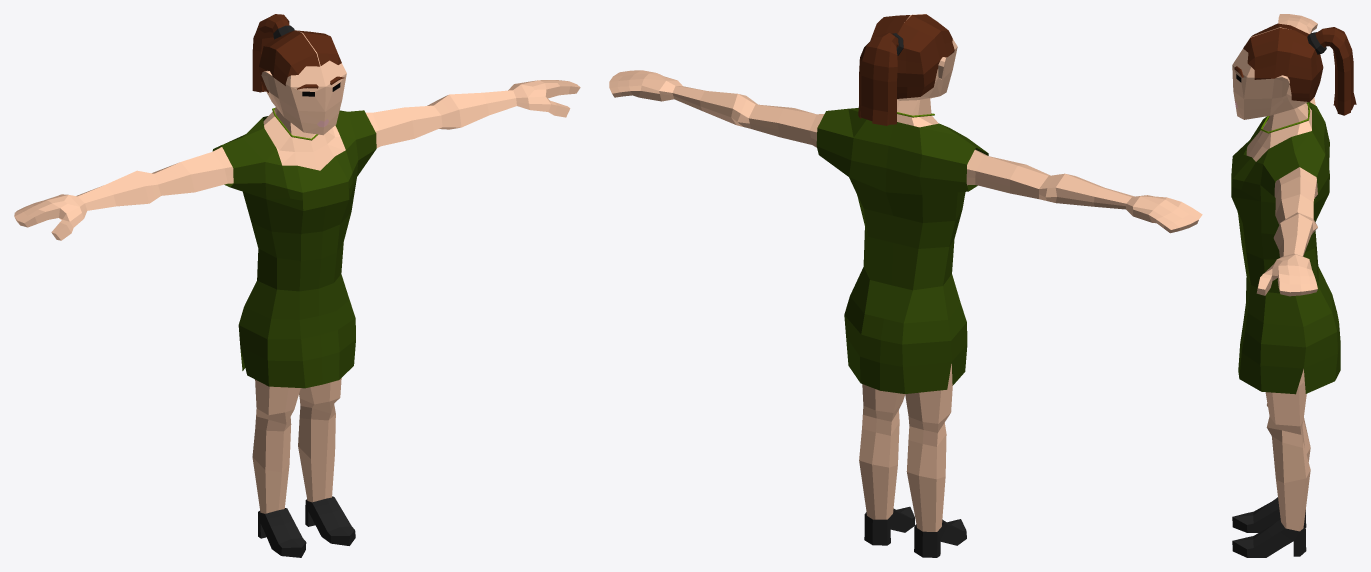
Rendered from NPC_W_Verde_Escenario2_Coleta.fbx.
3 renders of one model, left to right at view 1: azimuth 30°, elevation 25°; view 2: azimuth 150°, elevation 25°; view 3: azimuth 270°, elevation 25°, orthographic. The views are drawn at different scales.
Parts seen in each view (by area): view 1: Vestido; view 2: Vestido; view 3: Vestido.
Part boxes in pixels (x1,y1,x2,y2): Vestido: [14, 14, 580, 557]; Vestido: [609, 14, 1202, 557]; Vestido: [1231, 14, 1356, 557].
Bounding box in the file's own units: 215 × 185 × 40.91.
